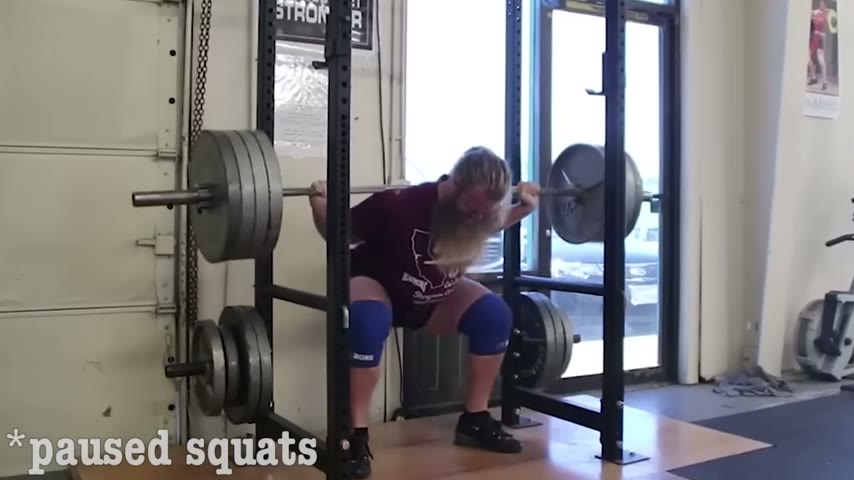barbell_plate_side: (129, 130, 217, 265)
